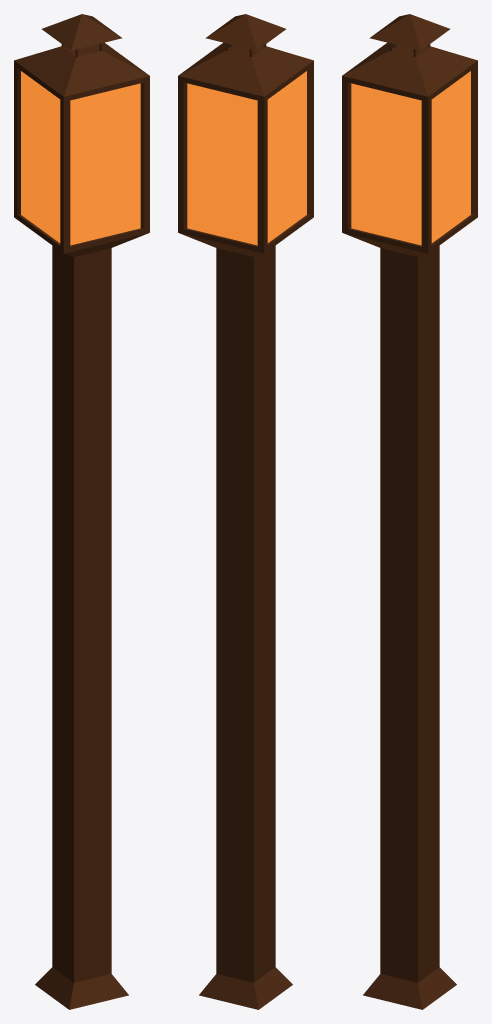
File: lamp.glb
The picture shows the model from 3 angles, left to right: view 1: azimuth 30°, elevation 25°; view 2: azimuth 150°, elevation 25°; view 3: azimuth 330°, elevation 25°; orthographic projection.
Parts seen in each view (by area): view 1: Lamp.021; view 2: Lamp.021; view 3: Lamp.021.
Boxes of the visible parts, x1,y1,x2,y2 form: Lamp.021: (14, 14, 149, 1009); Lamp.021: (178, 14, 313, 1009); Lamp.021: (342, 14, 477, 1009).
Bounding box in the file's own units: 0.23 × 2.49 × 0.23.
